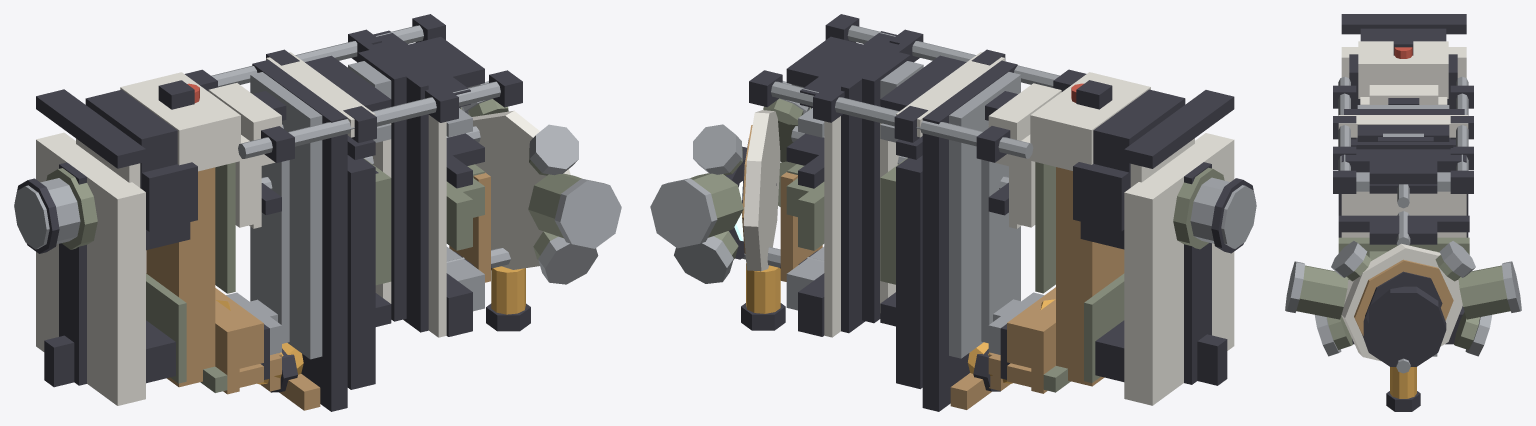
File: Gear_Colette_v5.glb
3 views of the same model, side by side, from view 1: azimuth 30°, elevation 25°; view 2: azimuth 150°, elevation 25°; view 3: azimuth 270°, elevation 25° (orthographic). The views are drawn at different scales.
Visible parts, largest first — view 1: Gear_Colette_v5; view 2: Gear_Colette_v5; view 3: Gear_Colette_v5.
Part boxes in pixels (left/top/right/bottom): Gear_Colette_v5: left=14, top=14, right=621, bottom=411; Gear_Colette_v5: left=650, top=14, right=1256, bottom=411; Gear_Colette_v5: left=1285, top=14, right=1521, bottom=411.
Size of the model in its own units: 1.01 by 0.611 by 0.5238.
